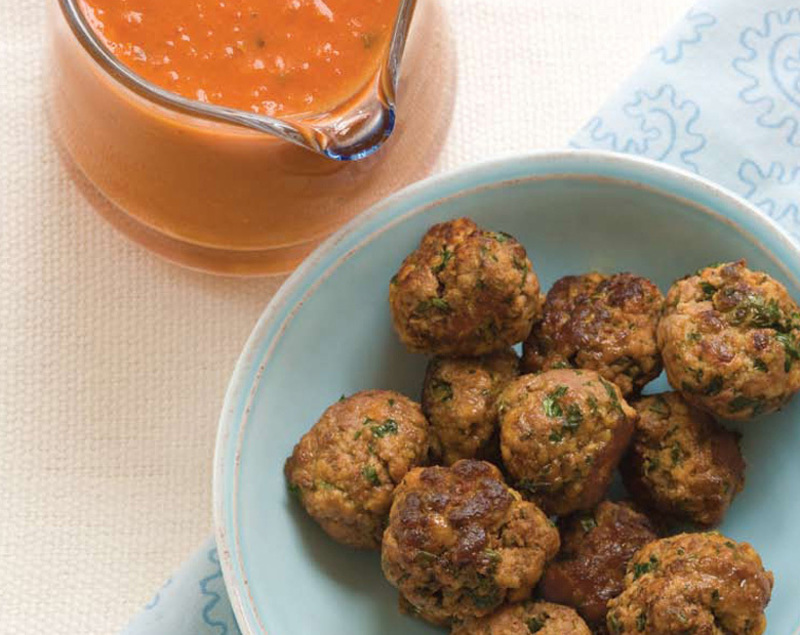meatballs: (412, 249, 730, 615)
